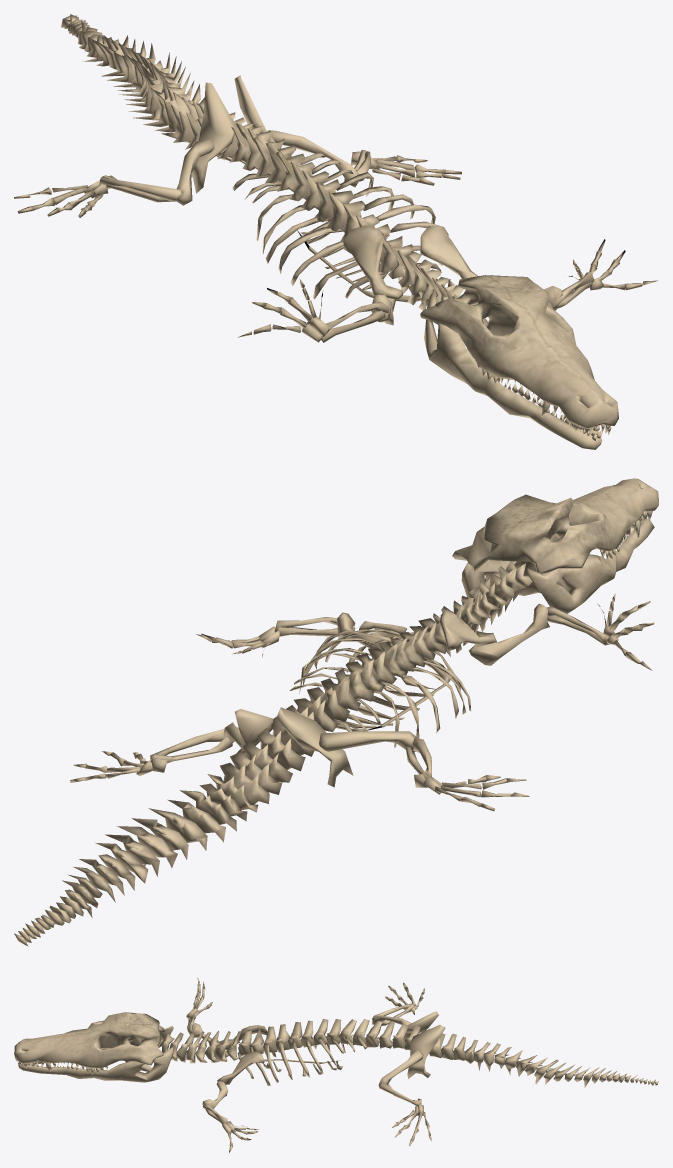
File: crocodile_bones.glb
3 views of the same model, one above another, from view 1: azimuth 30°, elevation 25°; view 2: azimuth 150°, elevation 25°; view 3: azimuth 270°, elevation 25° (orthographic). The views are drawn at different scales.
Visible parts, largest first — view 1: PM3D_Cube3D1; view 2: PM3D_Cube3D1; view 3: PM3D_Cube3D1.
Part boxes in pixels (<box>): PM3D_Cube3D1: <box>14,14,657,449</box>; PM3D_Cube3D1: <box>14,478,658,946</box>; PM3D_Cube3D1: <box>14,977,658,1152</box>.
Size of the model in its own units: 1.87 by 0.4838 by 3.9.
Materials: 1 (1 with a texture image).
